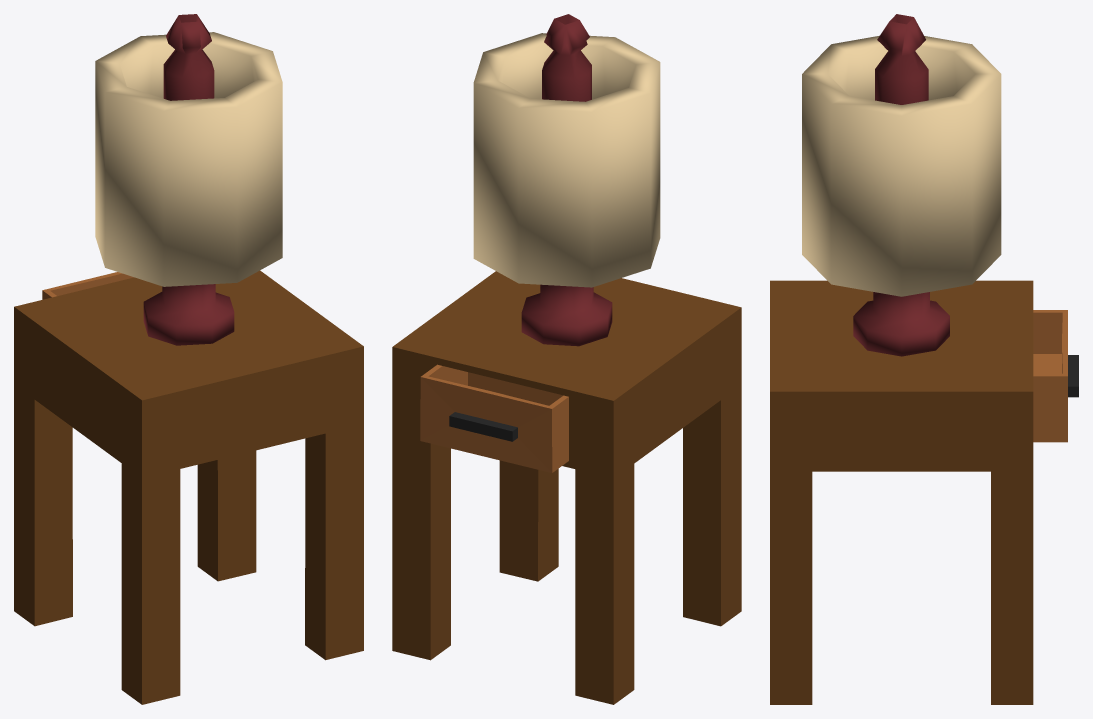
File: lowpolyNightstand.glb
3 views of the same model, side by side, from view 1: azimuth 30°, elevation 25°; view 2: azimuth 150°, elevation 25°; view 3: azimuth 270°, elevation 25° (orthographic). The views are drawn at different scales.
Visible parts, largest first — view 1: Table, Lamp; view 2: Table, Lamp; view 3: Table, Lamp.
Boxes of the visible parts, x1,y1,x2,y2 form: Table: [14, 270, 363, 704]; Lamp: [95, 14, 282, 345]; Table: [392, 271, 741, 704]; Lamp: [473, 14, 660, 346]; Table: [770, 280, 1078, 704]; Lamp: [802, 14, 1001, 356].
Bounding box in the file's own units: 2 × 5.28 × 2.35.
